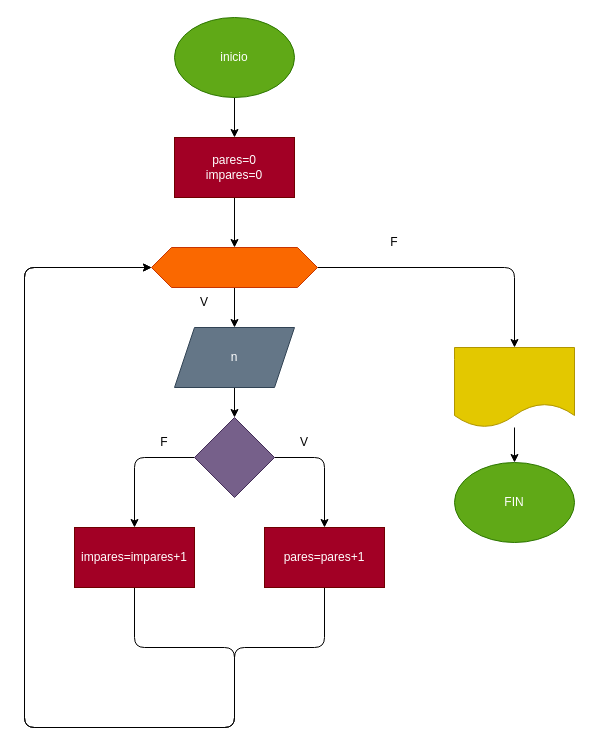
This 592x753 diagram has some shape labels left out. Each missing label, with the centre of its shape:
"for i in range (1,101)" belongs at point (234, 267).
"n%2==0" belongs at point (234, 457).
"pares, impares" belongs at point (514, 387).
